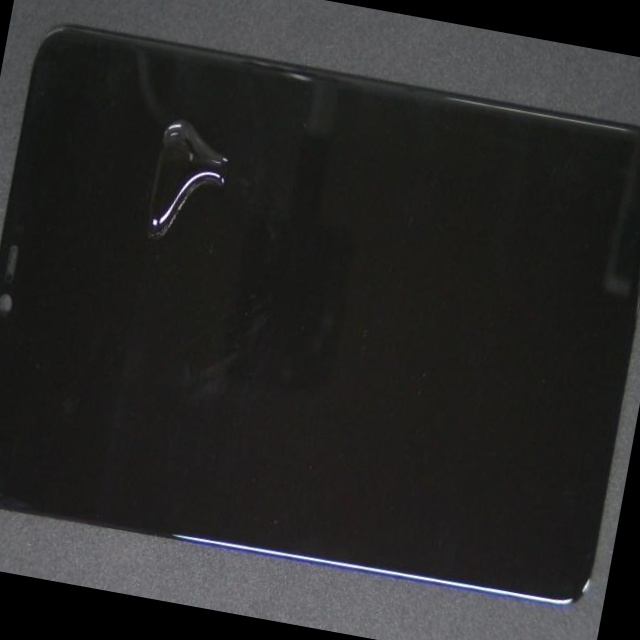oil: (102, 40, 289, 209)
